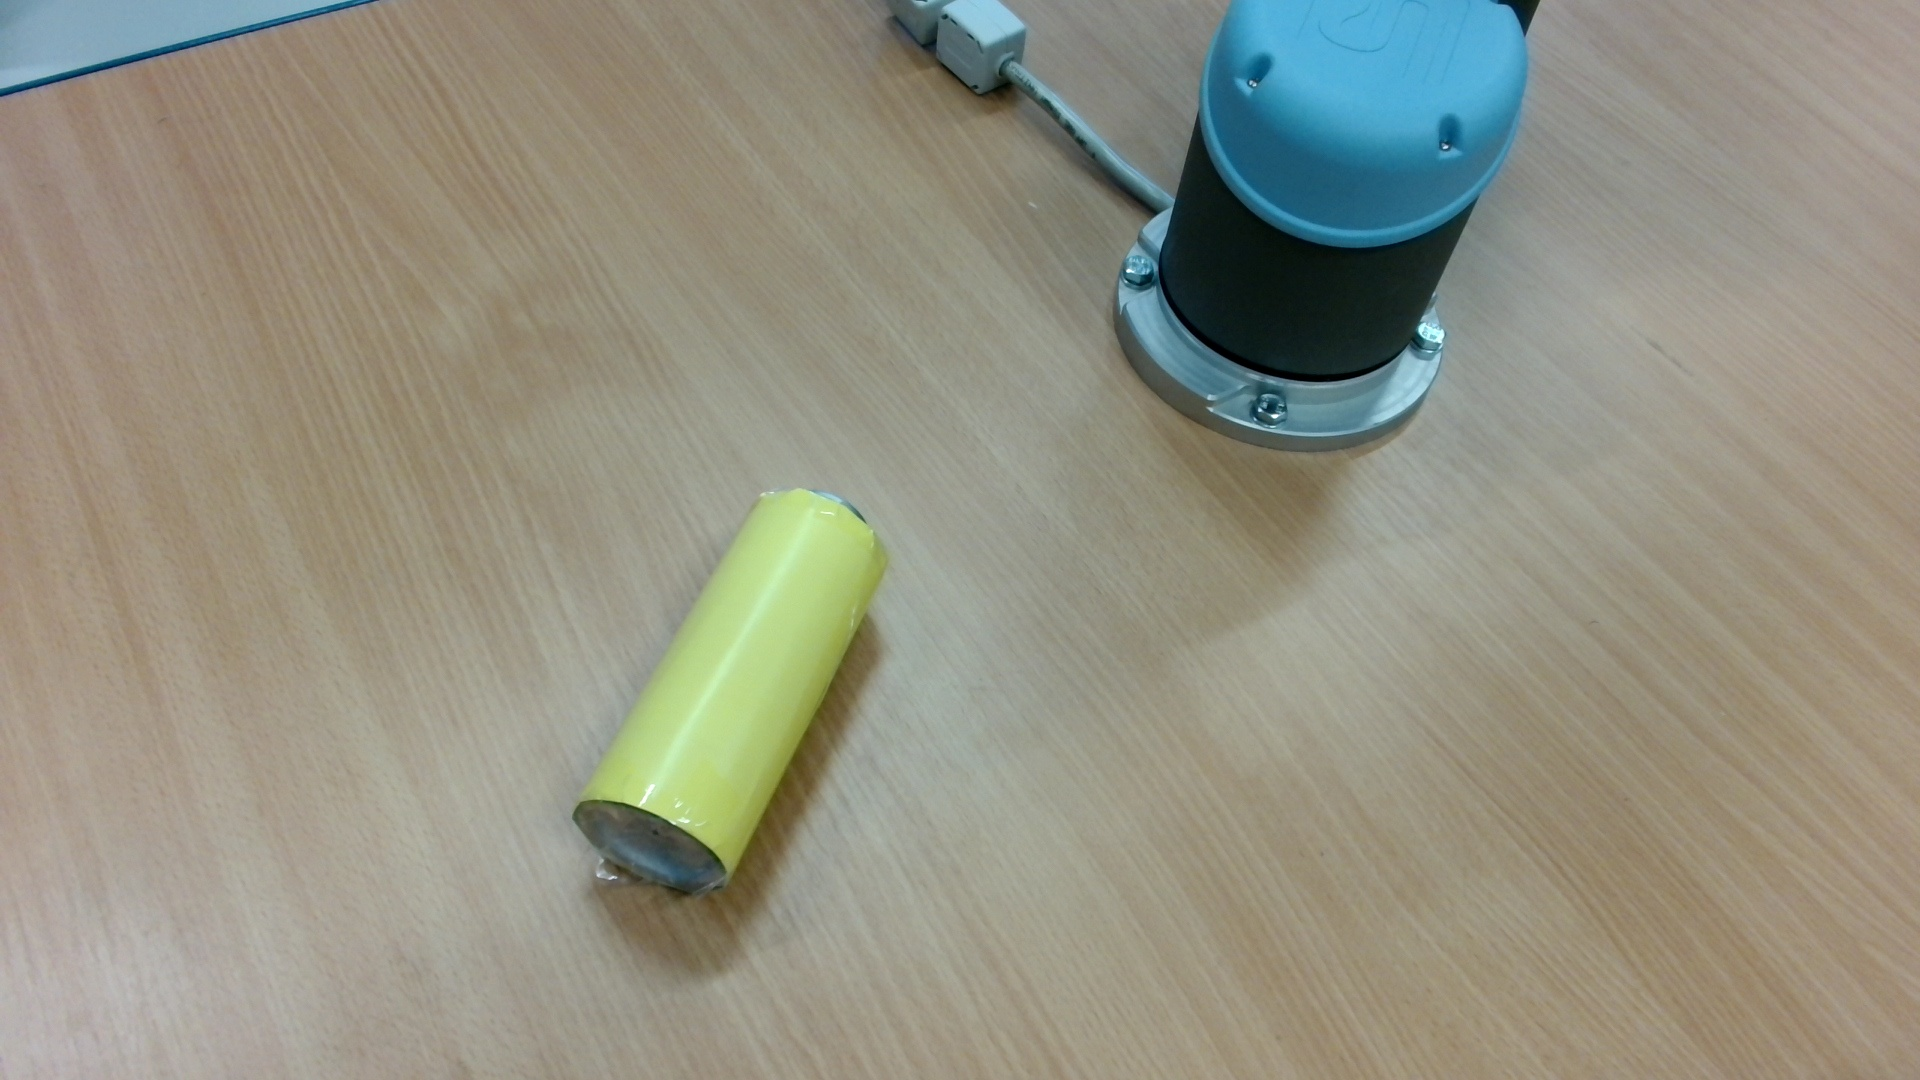Cylinder: (563, 473, 901, 924)
